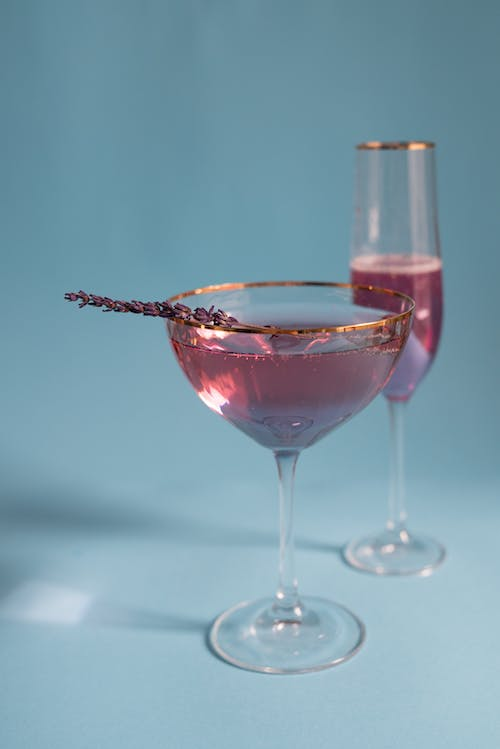alcohol: (163, 278, 416, 678), (338, 138, 446, 578)
